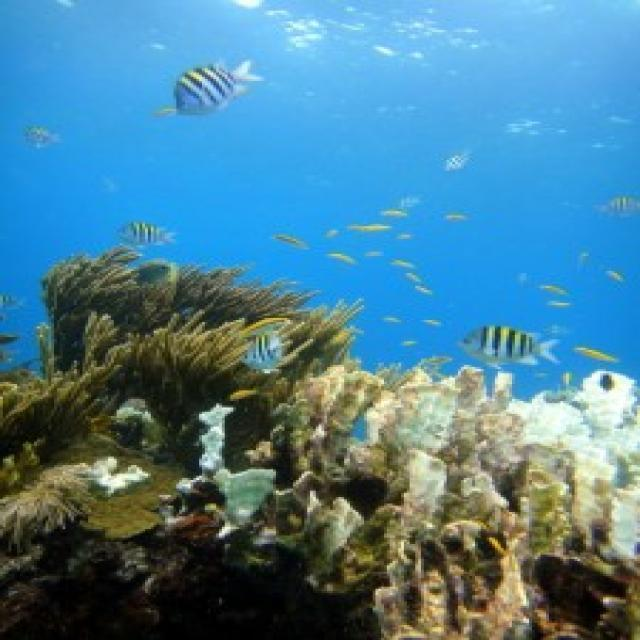Bleached: (395, 378, 640, 470), (369, 562, 539, 640), (281, 363, 379, 463)
Healthy: (64, 263, 371, 390), (17, 482, 211, 640), (2, 382, 116, 464)
